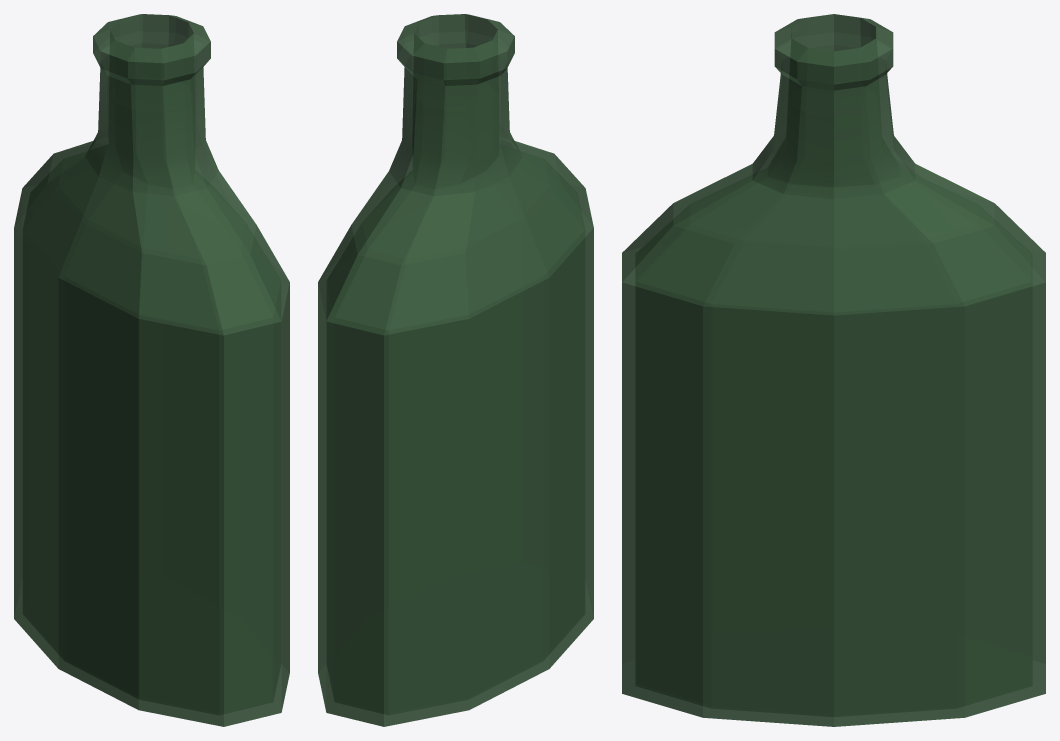
File: WideBottle.fbx
3 renders of one model, left to right at view 1: azimuth 30°, elevation 25°; view 2: azimuth 150°, elevation 25°; view 3: azimuth 270°, elevation 25°, orthographic. The views are drawn at different scales.
Parts seen in each view (by area): view 1: polySurface11, polySurface14; view 2: polySurface11, polySurface14; view 3: polySurface11, polySurface14.
Part boxes in pixels (x1,y1,x2,y2): polySurface11: [14, 14, 289, 726]; polySurface14: [109, 136, 145, 182]; polySurface11: [318, 14, 593, 726]; polySurface14: [461, 146, 497, 182]; polySurface11: [622, 14, 1045, 726]; polySurface14: [794, 159, 872, 186].
Bounding box in the file's own units: 1.6 × 5.03 × 2.99.
